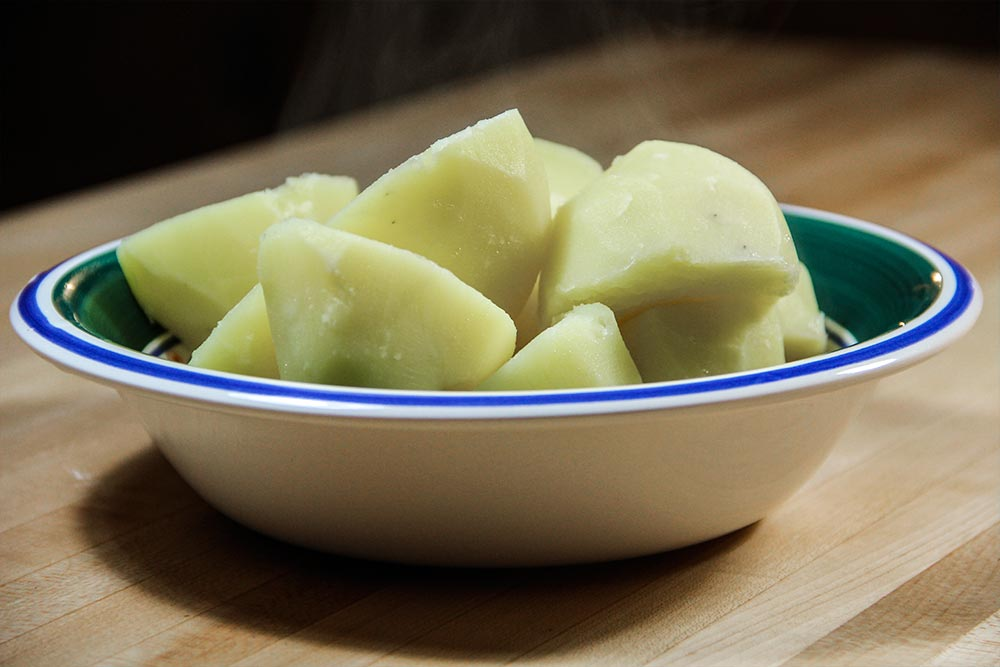boiled potatoes: (133, 126, 838, 384)
